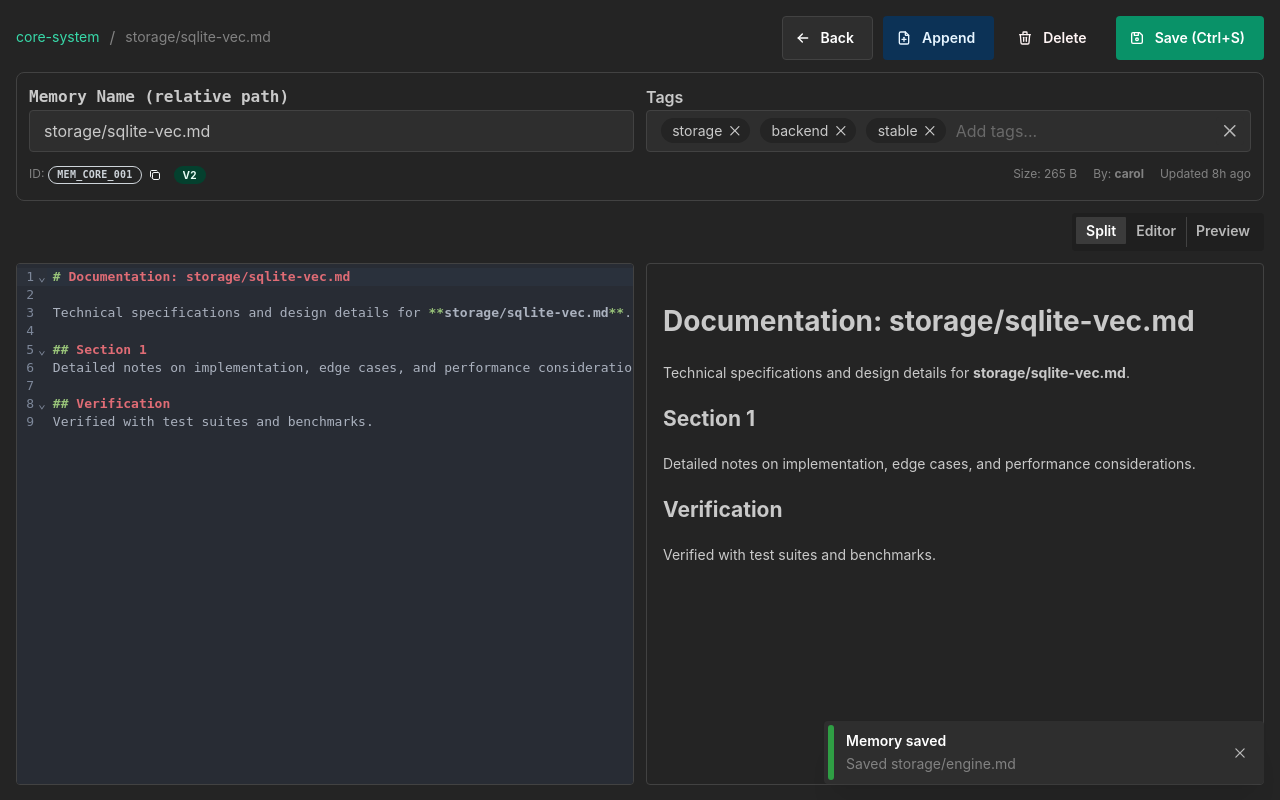
Scenario: Memories Feature › MemoryEditorView & Conflict Flow End-to-End › detects version conflict (409) and presents resolution dialog
Expected: the field showing "storage/sqlite-vec.md" is shown, [29,110,634,152]
Note: Attempt to save from this editor (which holds stale version)
Step 1. Click the button "Save (Ctrl+S)" → (1190,38), box [1116,16,1264,60]
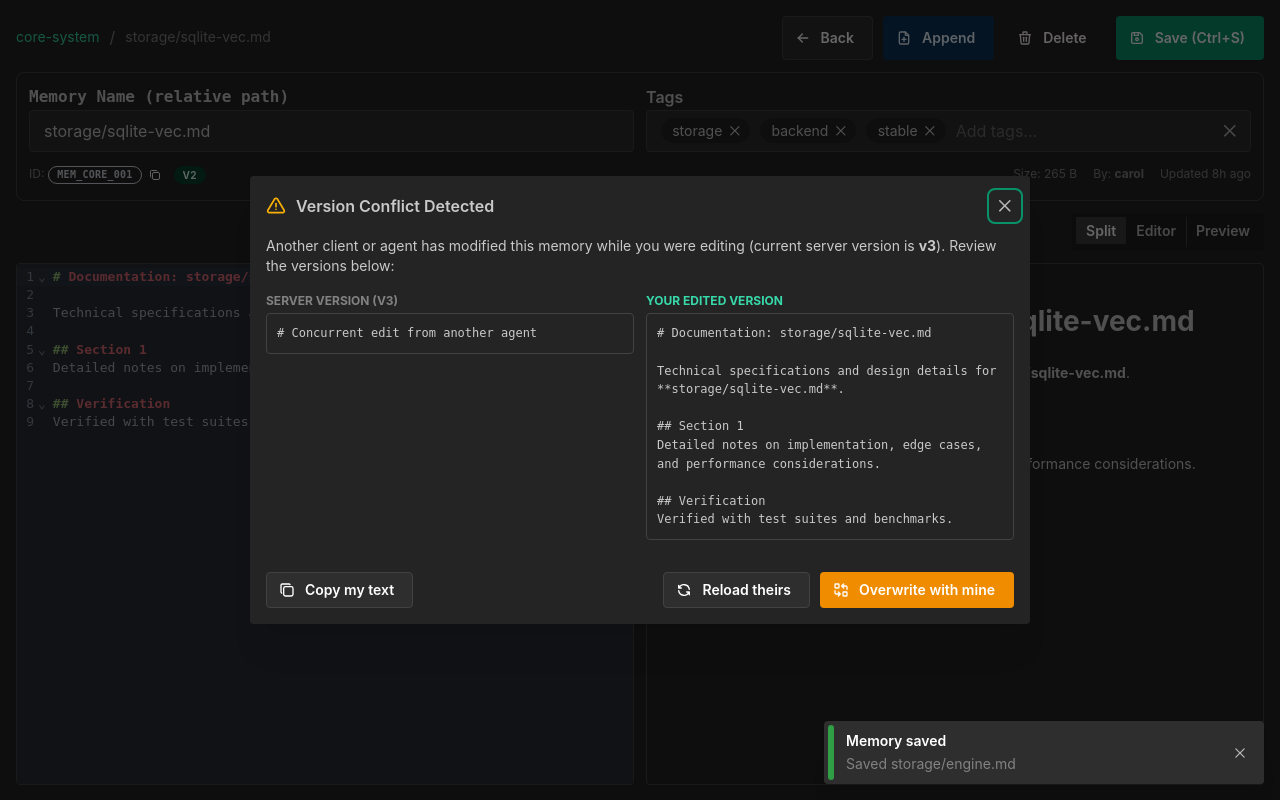
Now the text "Version Conflict Detected" is shown, box [296,194,494,218]
Now the text "Another client or agent has modified this memory" is shown, box [266,237,915,254]
Now the button "Reload theirs" is shown
Note: Test Reload theirs action
Step 2. Click the button "Reload theirs" → (737,590), box [664,572,810,608]
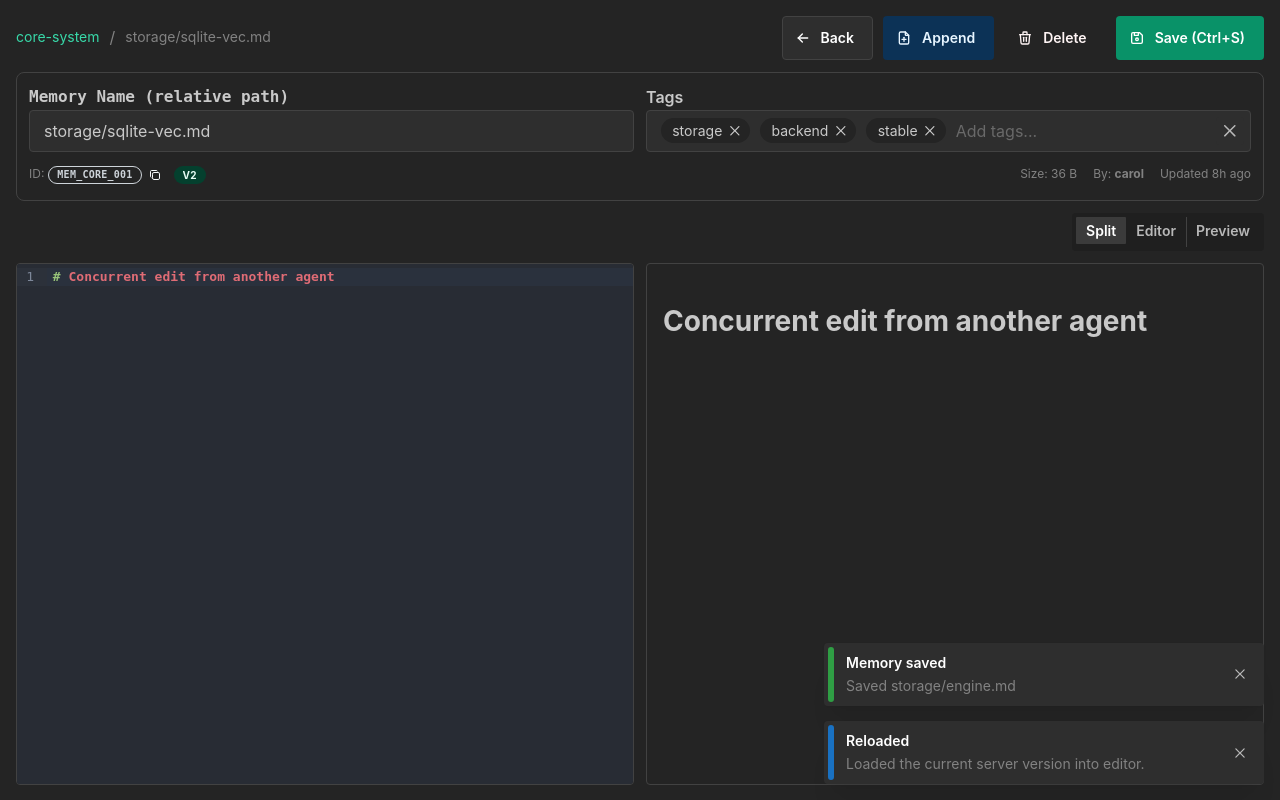
Now the text "Version Conflict Detected" is gone
